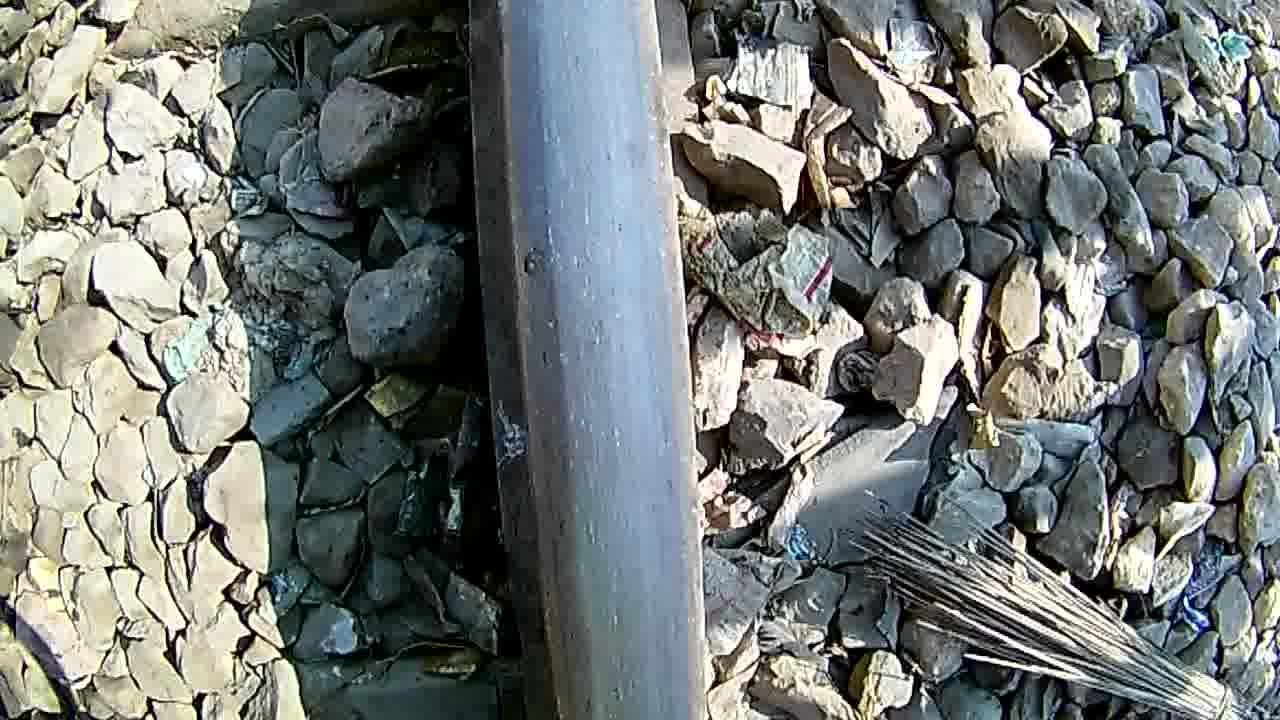crack: (488, 0, 698, 720)
